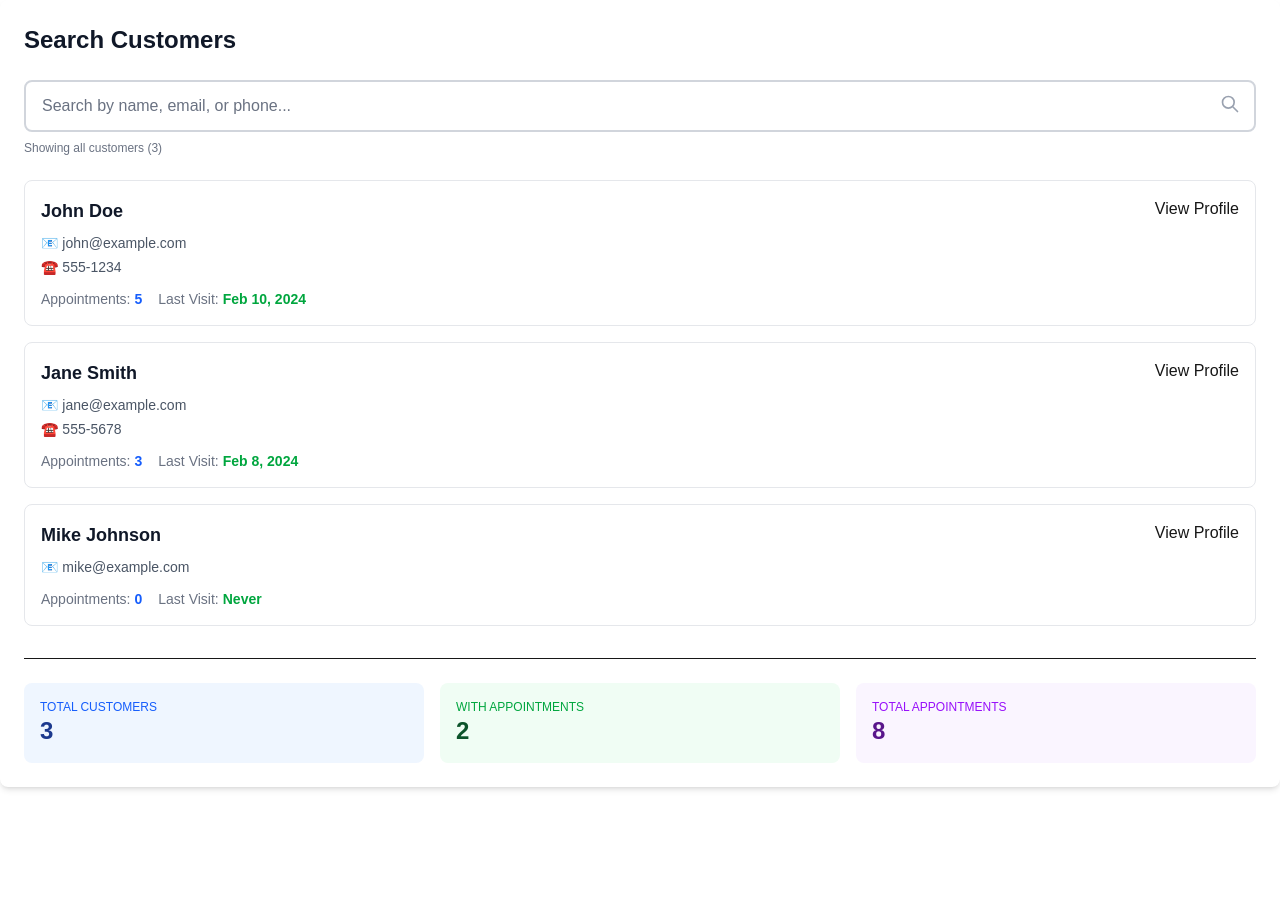
Test: CustomerSearch Component › filters customers by email
Type "jane@example.com" into the field with placeholder "Search by name, email, or phone...". click: [640, 106]
box: [24, 80, 1256, 132]
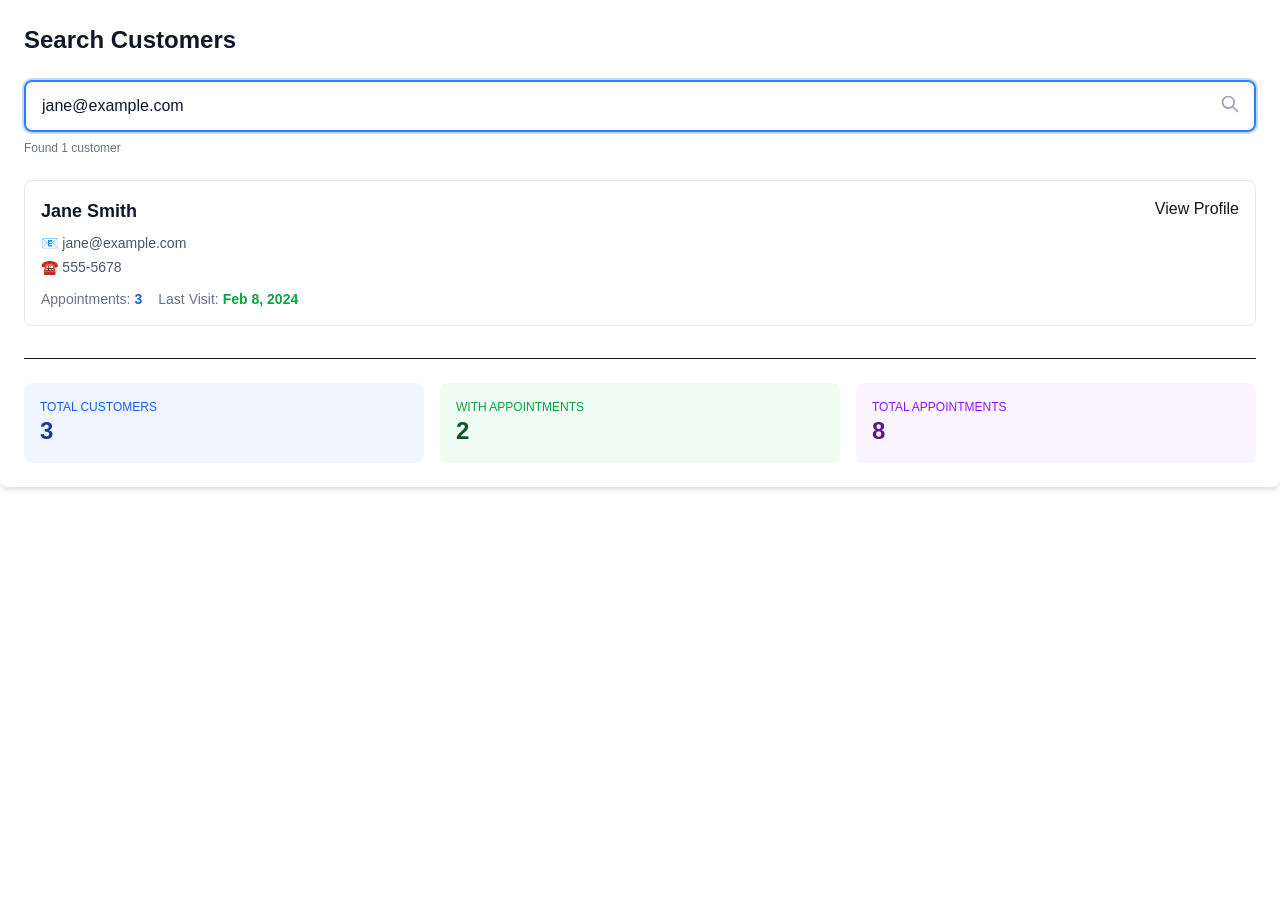
expect the heading "Jane Smith" is shown: met, box [41, 201, 137, 221]
expect the heading "John Doe" is gone: met
